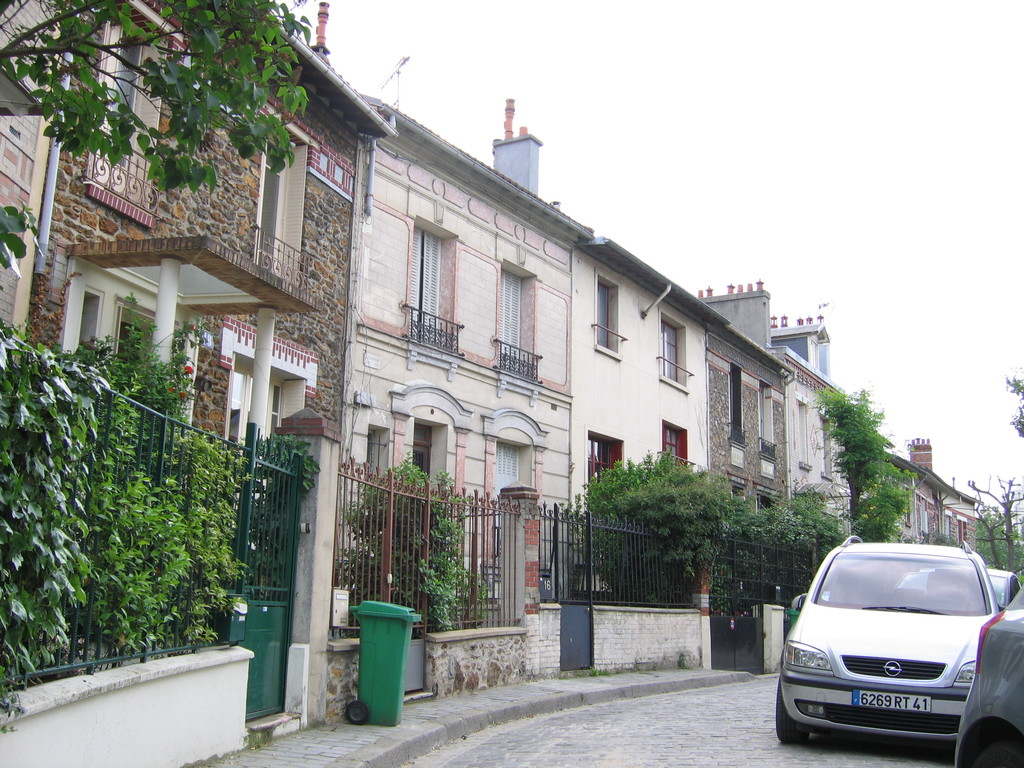Car: (773, 534, 990, 746), (952, 590, 1023, 767)
